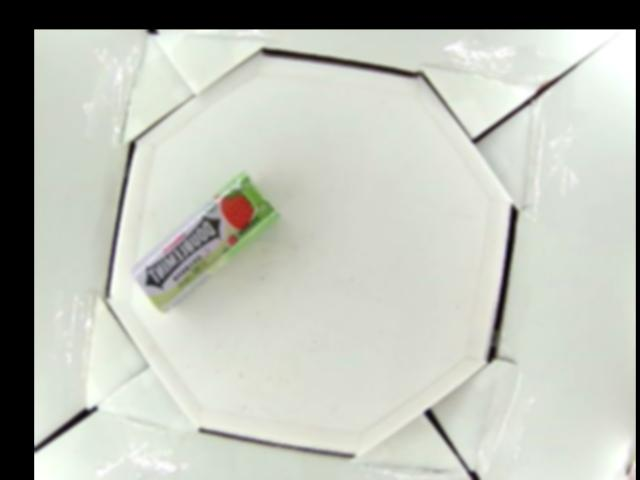Bottle: (128, 172, 277, 312)
